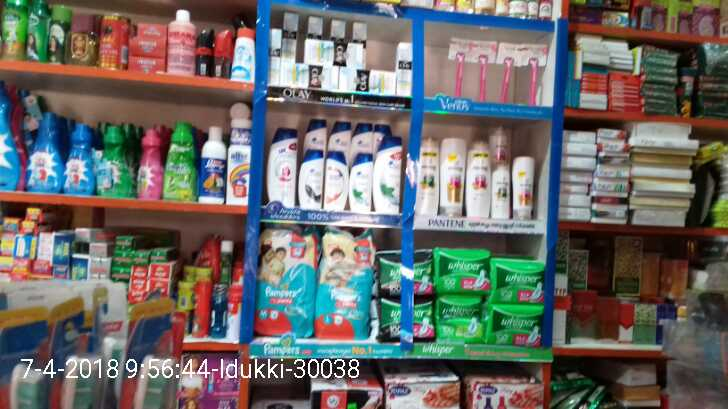venus: (470, 42, 500, 102), (500, 42, 523, 104), (449, 38, 470, 102), (523, 44, 545, 104)
